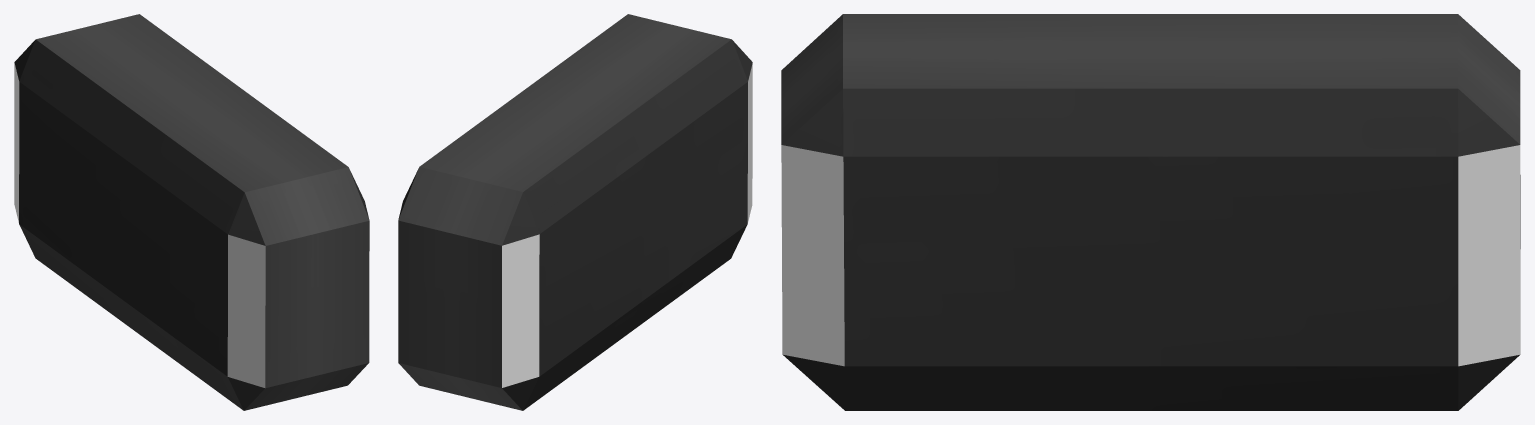
Rendered from SmalllMag_mesh.fbx.
3 views of the same model, side by side, from view 1: azimuth 30°, elevation 25°; view 2: azimuth 150°, elevation 25°; view 3: azimuth 270°, elevation 25° (orthographic). The views are drawn at different scales.
Visible parts, largest first — view 1: SmalllMag_mesh; view 2: SmalllMag_mesh; view 3: SmalllMag_mesh.
Part boxes in pixels (box(x1,y1,x2,y2)): SmalllMag_mesh: box(14, 14, 369, 410); SmalllMag_mesh: box(398, 14, 752, 410); SmalllMag_mesh: box(781, 14, 1520, 410).
Size of the model in its own units: 2.26 by 3.47 by 7.2.
